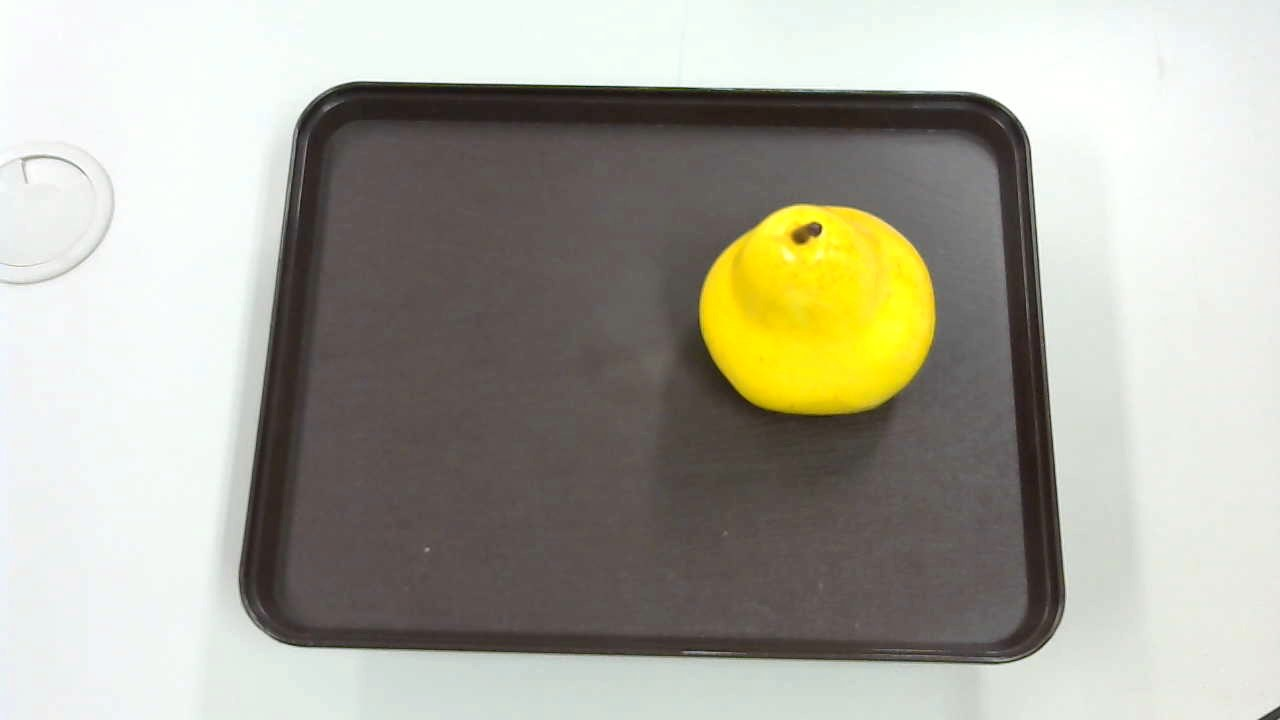yellow pear: (695, 202, 944, 420)
